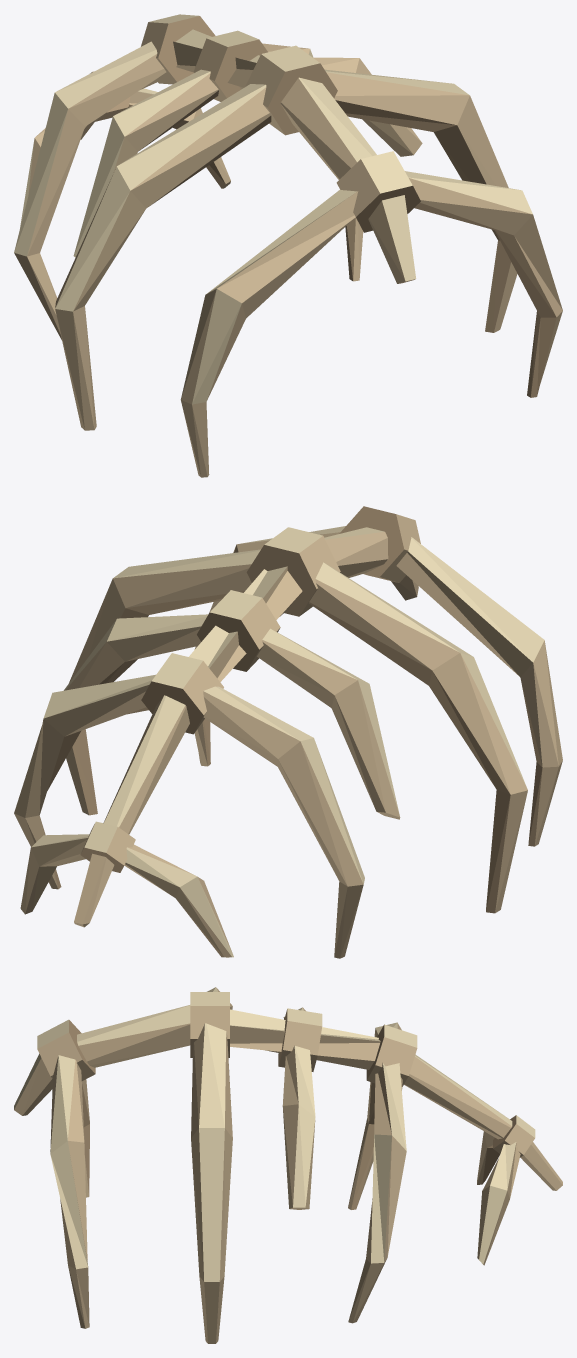
The model's file is TB_D_Env_BoneB_A.FBX.
The picture shows the model from 3 angles, top to bottom: view 1: azimuth 30°, elevation 25°; view 2: azimuth 150°, elevation 25°; view 3: azimuth 270°, elevation 25°; orthographic projection. The views are drawn at different scales.
Visible parts, largest first — view 1: TB_D_Env_BoneB_A; view 2: TB_D_Env_BoneB_A; view 3: TB_D_Env_BoneB_A.
Boxes of the visible parts, x1,y1,x2,y2 form: TB_D_Env_BoneB_A: [14, 14, 562, 477]; TB_D_Env_BoneB_A: [14, 506, 562, 958]; TB_D_Env_BoneB_A: [14, 987, 562, 1343].
Bounding box in the file's own units: 4.52 × 2.95 × 5.59.
